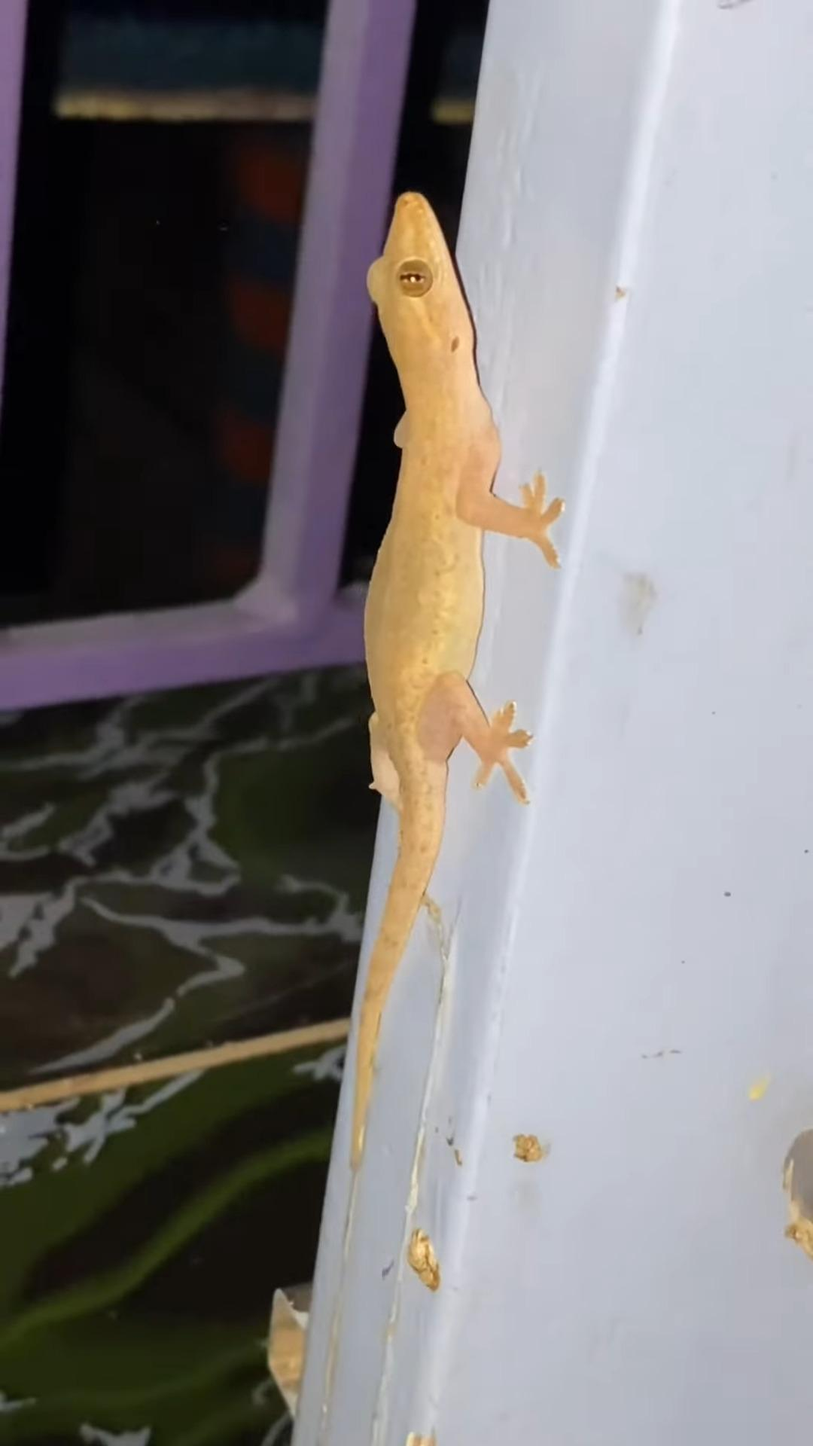lizard: (298, 151, 580, 1169)
